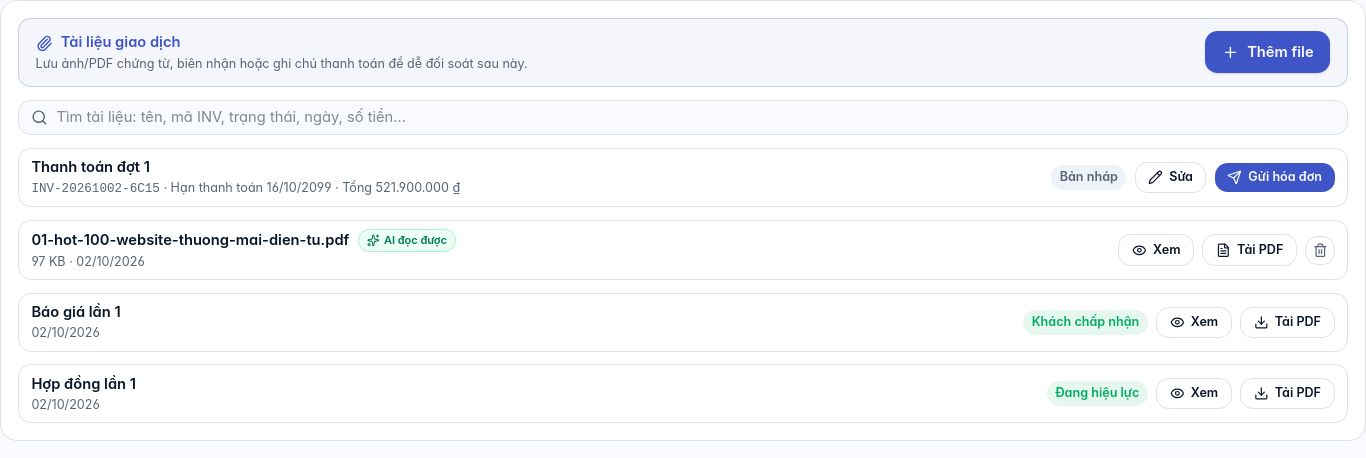
thanh tìm kiếm trong tab Tài liệu › nút X trong ô tìm xoá nội dung và hiện lại mọi hàng
Type "bao gia" into the field labelled "Tìm tài liệu".
click(696, 117); type("bao gia")  # box left=57, top=107, right=1335, bottom=128
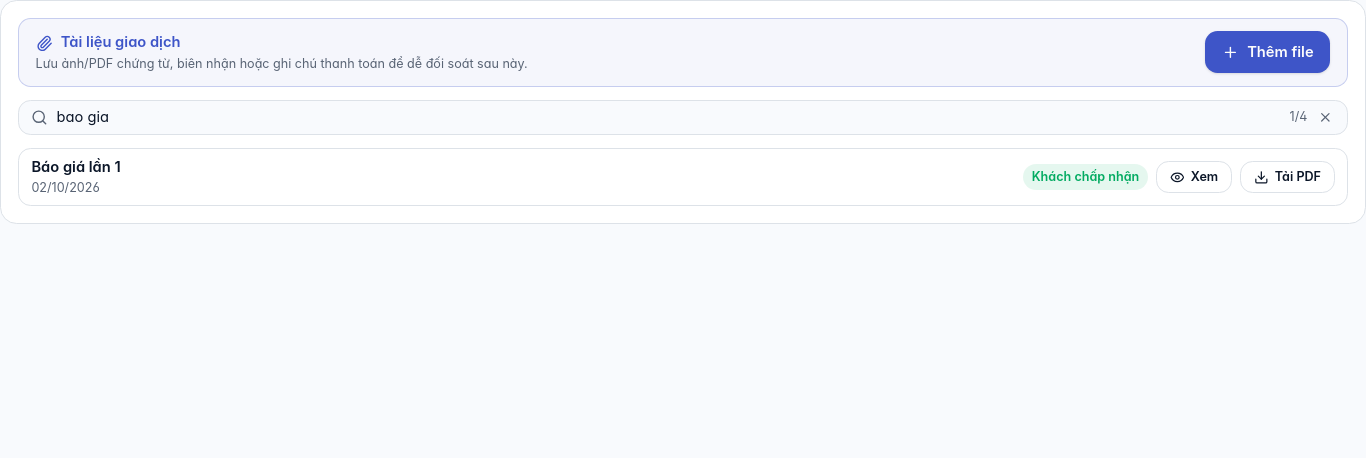
Expected: the text "1/4" is shown, left=1290, top=109, right=1307, bottom=126
Click the button named "Xoá nội dung ô tìm".
click(1325, 117)  # box left=1316, top=108, right=1335, bottom=127
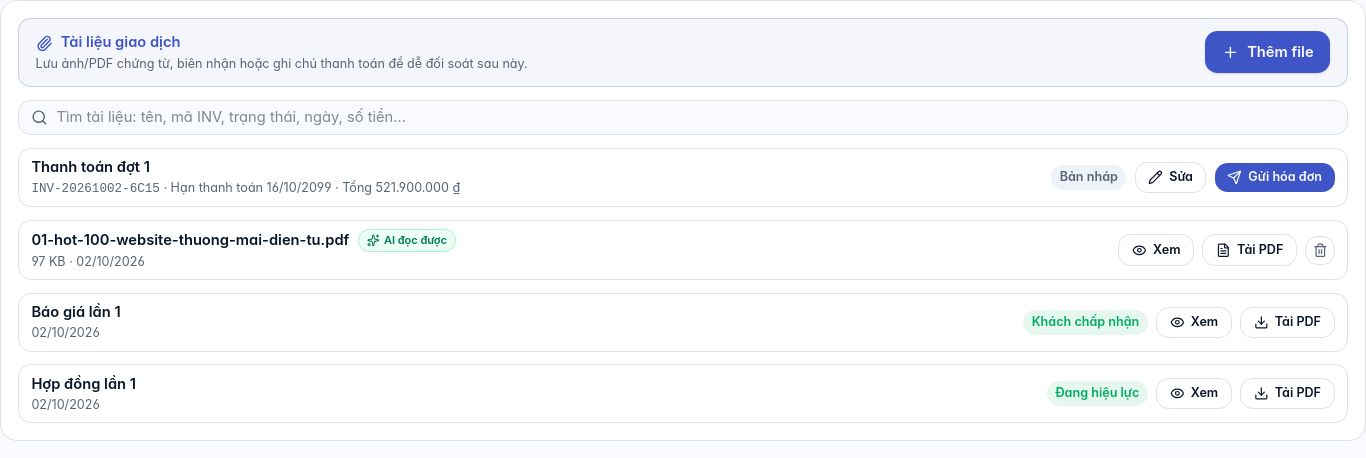
Expected: the field labelled "Tìm tài liệu" is empty, left=57, top=107, right=1335, bottom=128
Expected: the text "Hợp đồng lần 1" is shown, left=31, top=374, right=136, bottom=395
